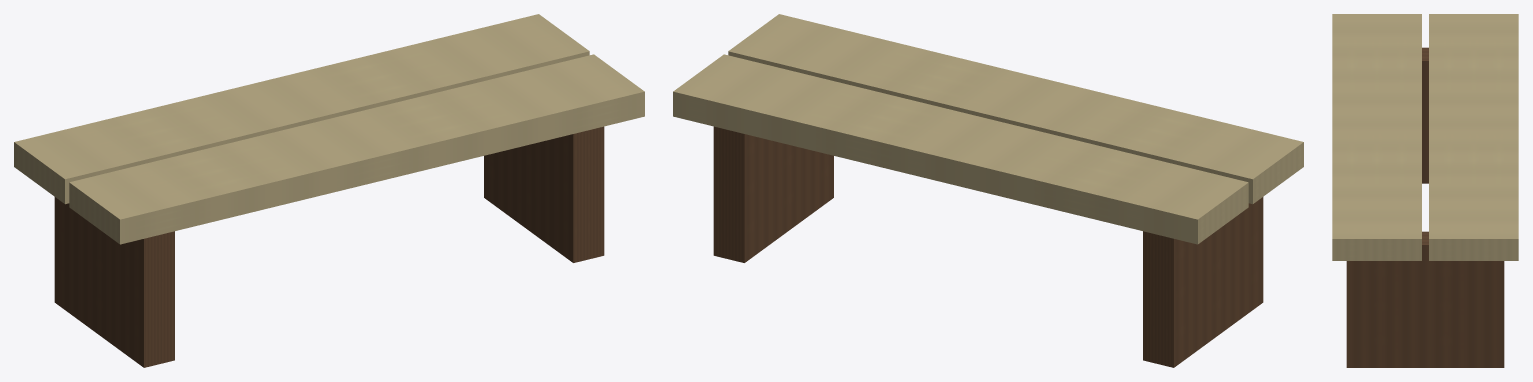
File: atlas100-clockwork-util03.lod1.glb
3 views of the same model, side by side, from view 1: azimuth 30°, elevation 25°; view 2: azimuth 150°, elevation 25°; view 3: azimuth 270°, elevation 25° (orthographic). The views are drawn at different scales.
Parts seen in each view (by area): view 1: atlas100-clockwork-util03:part-004, atlas100-clockwork-util03:part-002, atlas100-clockwork-util03:part-000, atlas100-clockwork-util03:part-001; view 2: atlas100-clockwork-util03:part-002, atlas100-clockwork-util03:part-004, atlas100-clockwork-util03:part-000, atlas100-clockwork-util03:part-001; view 3: atlas100-clockwork-util03:part-002, atlas100-clockwork-util03:part-004, atlas100-clockwork-util03:part-001, atlas100-clockwork-util03:part-000.
Boxes of the visible parts, x1,y1,x2,y2 form: atlas100-clockwork-util03:part-004: (69,54,644,244); atlas100-clockwork-util03:part-002: (14,14,589,204); atlas100-clockwork-util03:part-000: (54,197,174,367); atlas100-clockwork-util03:part-001: (484,126,604,262); atlas100-clockwork-util03:part-002: (673,54,1248,244); atlas100-clockwork-util03:part-004: (728,14,1303,204); atlas100-clockwork-util03:part-000: (1143,197,1263,367); atlas100-clockwork-util03:part-001: (713,126,833,262); atlas100-clockwork-util03:part-002: (1429,14,1518,260); atlas100-clockwork-util03:part-004: (1332,14,1421,260); atlas100-clockwork-util03:part-001: (1346,231,1504,367); atlas100-clockwork-util03:part-000: (1422,47,1428,183).
Size of the model in its own units: 2.5 by 0.7397 by 0.8763.
Materials: 2 (2 with a texture image).
